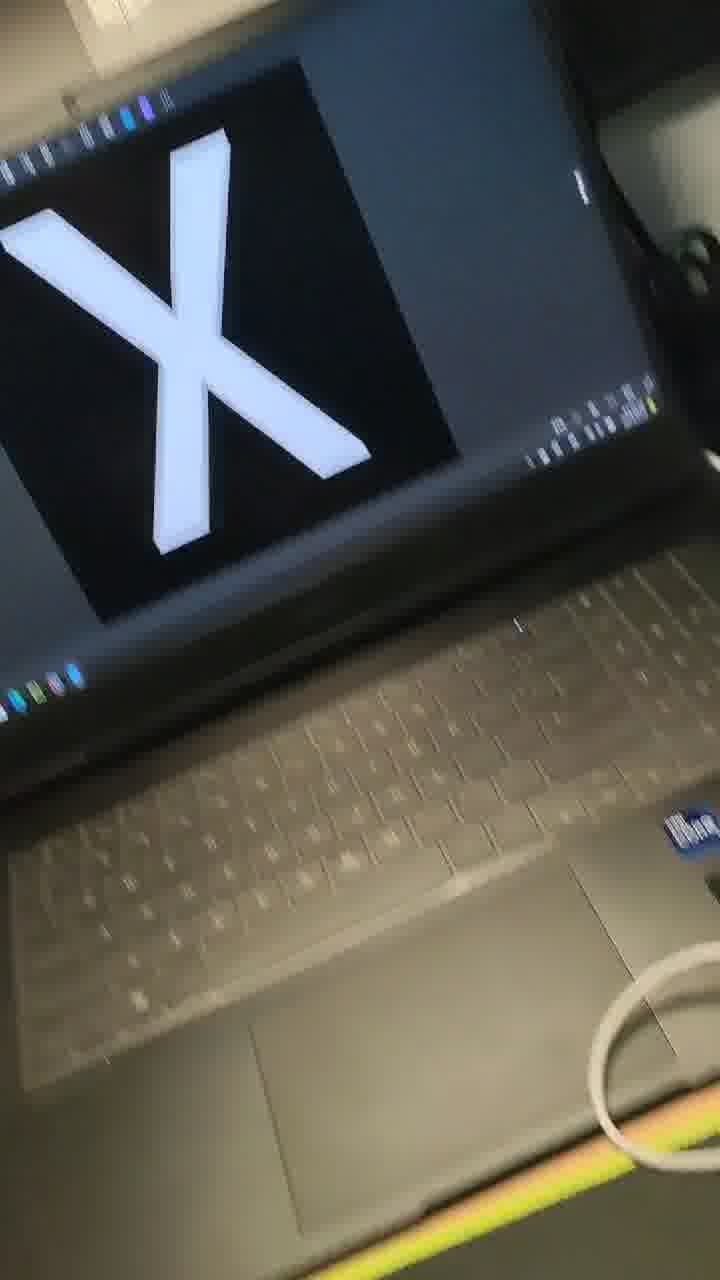X: (1, 94, 425, 589)
